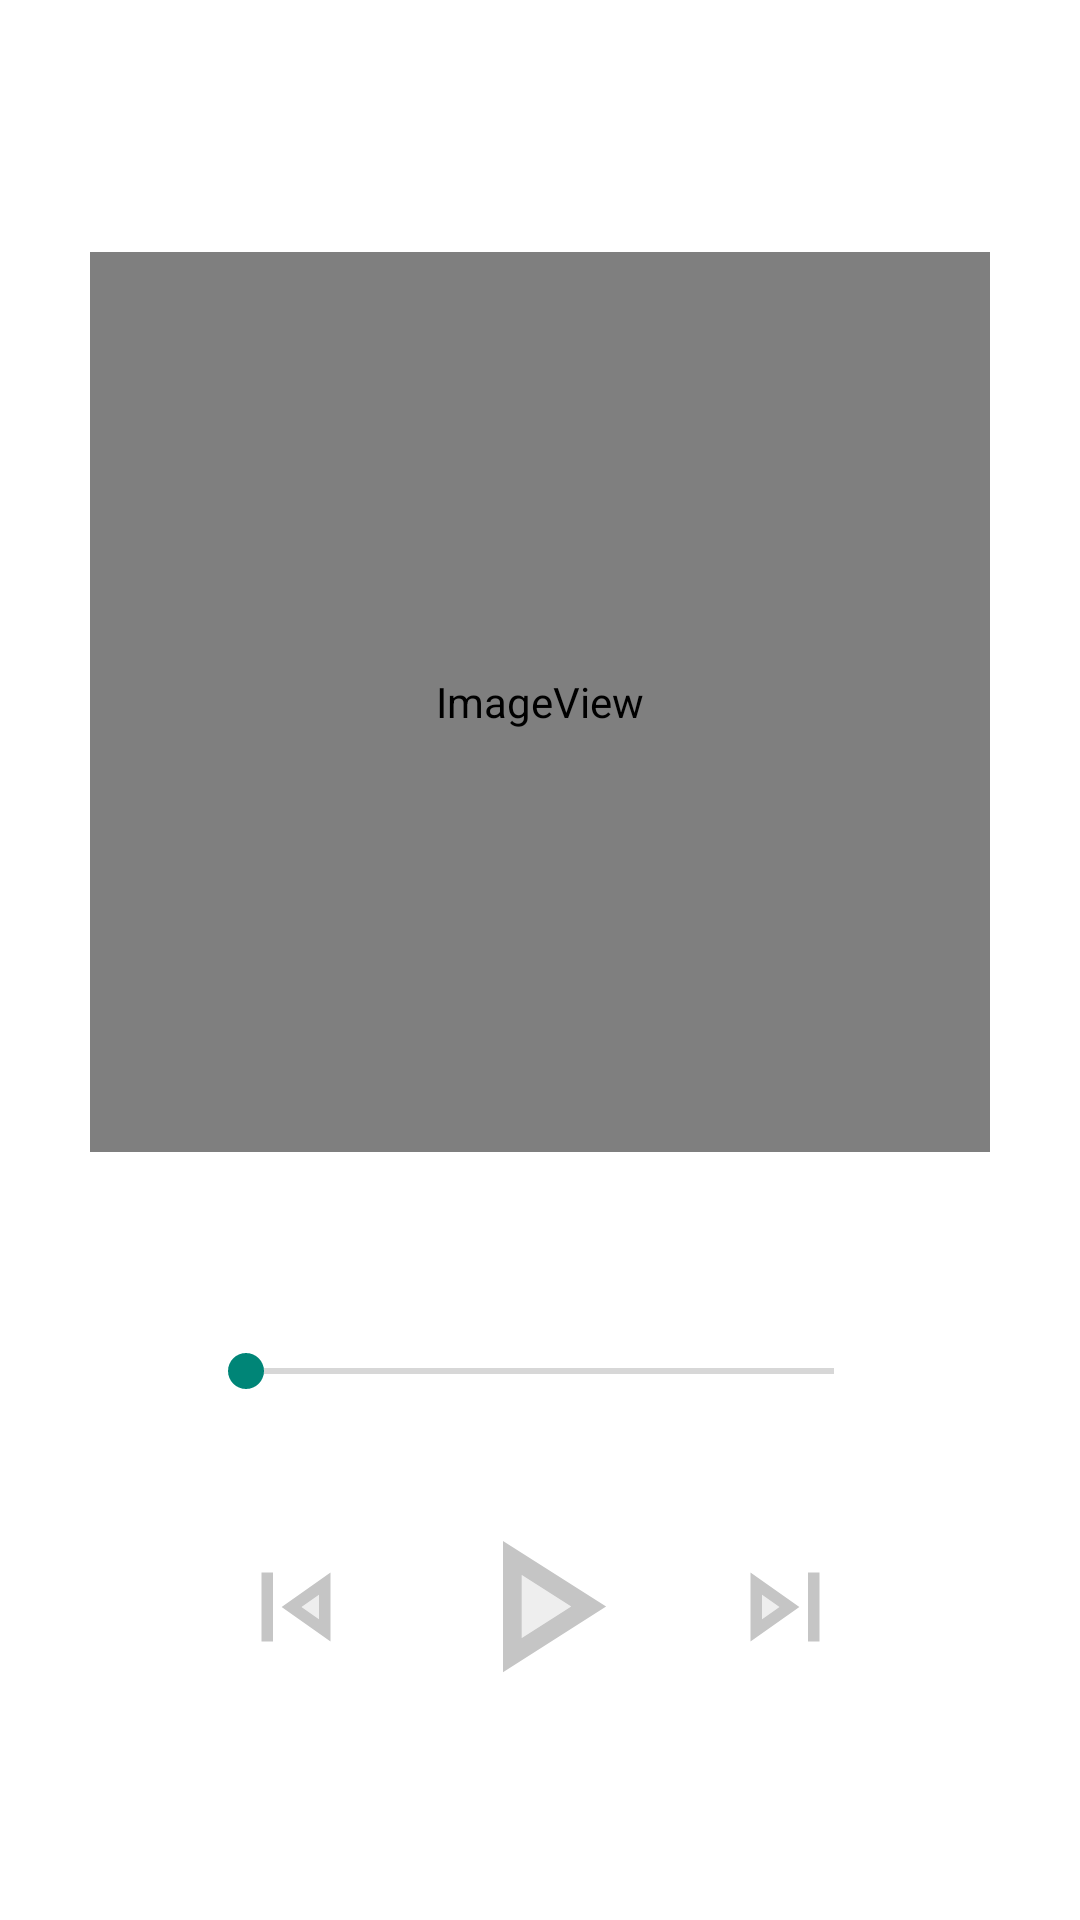

Locate icon controls on the screen. Image size 1080px x 1920px, boxes as (x1, y1, x2, y2).
play arrow: (503, 1541, 606, 1672)
skip next: (750, 1572, 820, 1642)
skip previous: (261, 1572, 331, 1642)
